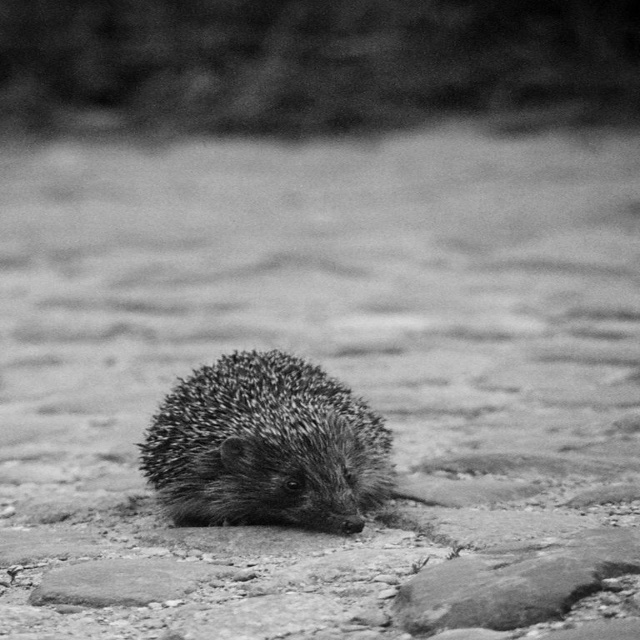Hedgehog: (132, 345, 401, 538)
